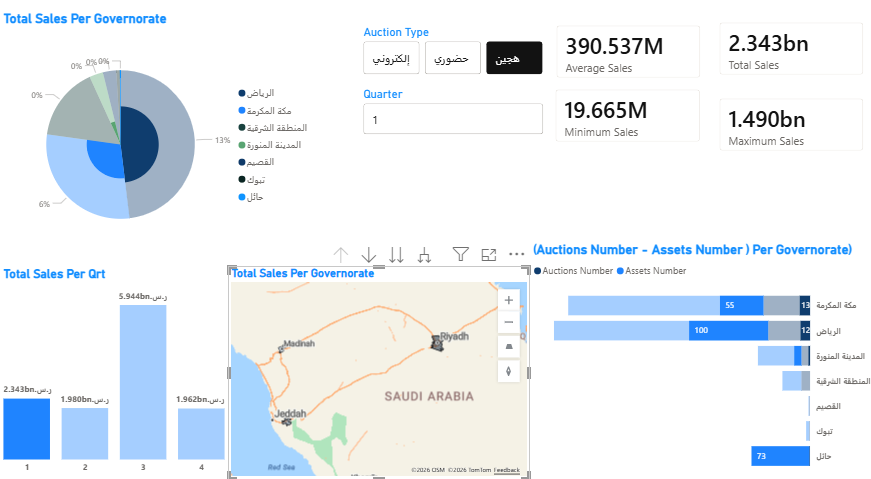

Layout of this report page (visuals, bound fields, positions):
{"tool":"powerbi","page":{"name":"Page 1","canvas":[1280,720],"ordinal":0},"visuals":[{"type":"azureMap","title":"Total Sales Per Governorate","fields":{"Category":["بيانات المبيعات العقارية السنوية حسب السنة والربع والمنطقة والمبالغ الإجمالي (2).المنطقة","بيانات المبيعات العقارية السنوية حسب السنة والربع والمنطقة والمبالغ الإجمالي (2).المدينة"]},"box":[333.7,406.8,442,313.2],"z":0},{"type":"cardVisual","fields":{"Data":["Sum(بيانات المبيعات العقارية السنوية حسب السنة والربع والمنطقة والمبالغ الإجمالي (2).مجموع_قيمة_البيع)"]},"box":[1035.7,34.3,244.3,110],"z":1000},{"type":"advancedSlicerVisual","title":"Auction Type","fields":{"Values":["بيانات المبيعات العقارية السنوية حسب السنة والربع والمنطقة والمبالغ الإجمالي (2).نوع المزاد"]},"box":[526.8,54.1,273.7,77.6],"z":2000},{"type":"pieChart","title":"Total Sales Per Governorate","fields":{"Category":["بيانات المبيعات العقارية السنوية حسب السنة والربع والمنطقة والمبالغ الإجمالي (2).المنطقة"],"Y":["Sum(بيانات المبيعات العقارية السنوية حسب السنة والربع والمنطقة والمبالغ الإجمالي (2).مجموع_قيمة_البيع)"]},"box":[0,33.7,463.9,368.8],"z":3000},{"type":"barChart","title":"(Auctions Number - Assets Number ) Per Governorate)","fields":{"Y":["Sum(بيانات المبيعات العقارية السنوية حسب السنة والربع والمنطقة والمبالغ الإجمالي (2).عدد_المزادات)","Sum(بيانات المبيعات العقارية السنوية حسب السنة والربع والمنطقة والمبالغ الإجمالي (2).عدد_الأصول)"],"Category":["بيانات المبيعات العقارية السنوية حسب السنة والربع والمنطقة والمبالغ الإجمالي (2).المنطقة"]},"box":[775.6,371.7,504.9,348.3],"z":4000},{"type":"cardVisual","fields":{"Data":["Avg(بيانات المبيعات العقارية السنوية حسب السنة والربع والمنطقة والمبالغ الإجمالي (2).مجموع_قيمة_البيع)"]},"box":[797.4,37.6,244.3,110],"z":5000},{"type":"cardVisual","fields":{"Data":["Max(بيانات المبيعات العقارية السنوية حسب السنة والربع والمنطقة والمبالغ الإجمالي (2).مجموع_قيمة_البيع)"]},"box":[1035.7,144.3,244.3,110],"z":6000},{"type":"cardVisual","fields":{"Data":["Min(بيانات المبيعات العقارية السنوية حسب السنة والربع والمنطقة والمبالغ الإجمالي (2).مجموع_قيمة_البيع)"]},"box":[796.7,132.1,245,110],"z":7000},{"type":"columnChart","title":"Total Sales Per Qrt","fields":{"Category":["بيانات المبيعات العقارية السنوية حسب السنة والربع والمنطقة والمبالغ الإجمالي (2).الربع"],"Y":["Sum(بيانات المبيعات العقارية السنوية حسب السنة والربع والمنطقة والمبالغ الإجمالي (2).مجموع_قيمة_البيع)"]},"box":[0,406.8,333.7,313.2],"z":8000},{"type":"advancedSlicerVisual","title":"Quarter","fields":{"Values":["بيانات المبيعات العقارية السنوية حسب السنة والربع والمنطقة والمبالغ الإجمالي (2).الربع"]},"box":[526.8,144.9,273.7,74.6],"z":9000}]}

Visuals, with their boxes in screenshot pixels (x1, y1, x2, y2), scaled from the page's 1280x720 canvas onto the 871x479 screenshot:
"Total Sales Per Governorate" azureMap: (x1=227, y1=271, x2=528, y2=478)
cardVisual - Sum(بيانات المبيعات العقارية السنوية حسب السنة والربع والمنطقة والمبالغ الإجمالي (2).مجموع_قيمة_البيع): (x1=705, y1=23, x2=870, y2=96)
"Auction Type" advancedSlicerVisual: (x1=358, y1=36, x2=545, y2=88)
"Total Sales Per Governorate" pieChart: (x1=0, y1=22, x2=316, y2=268)
"(Auctions Number - Assets Number ) Per Governorate)" barChart: (x1=528, y1=247, x2=870, y2=478)
cardVisual - Avg(بيانات المبيعات العقارية السنوية حسب السنة والربع والمنطقة والمبالغ الإجمالي (2).مجموع_قيمة_البيع): (x1=543, y1=25, x2=709, y2=98)
cardVisual - Max(بيانات المبيعات العقارية السنوية حسب السنة والربع والمنطقة والمبالغ الإجمالي (2).مجموع_قيمة_البيع): (x1=705, y1=96, x2=870, y2=169)
cardVisual - Min(بيانات المبيعات العقارية السنوية حسب السنة والربع والمنطقة والمبالغ الإجمالي (2).مجموع_قيمة_البيع): (x1=542, y1=88, x2=709, y2=161)
"Total Sales Per Qrt" columnChart: (x1=0, y1=271, x2=227, y2=478)
"Quarter" advancedSlicerVisual: (x1=358, y1=96, x2=545, y2=146)
